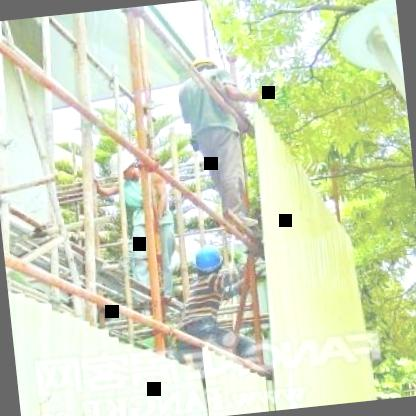helmet: (189, 238, 230, 277), (106, 148, 142, 184), (186, 51, 219, 83)
